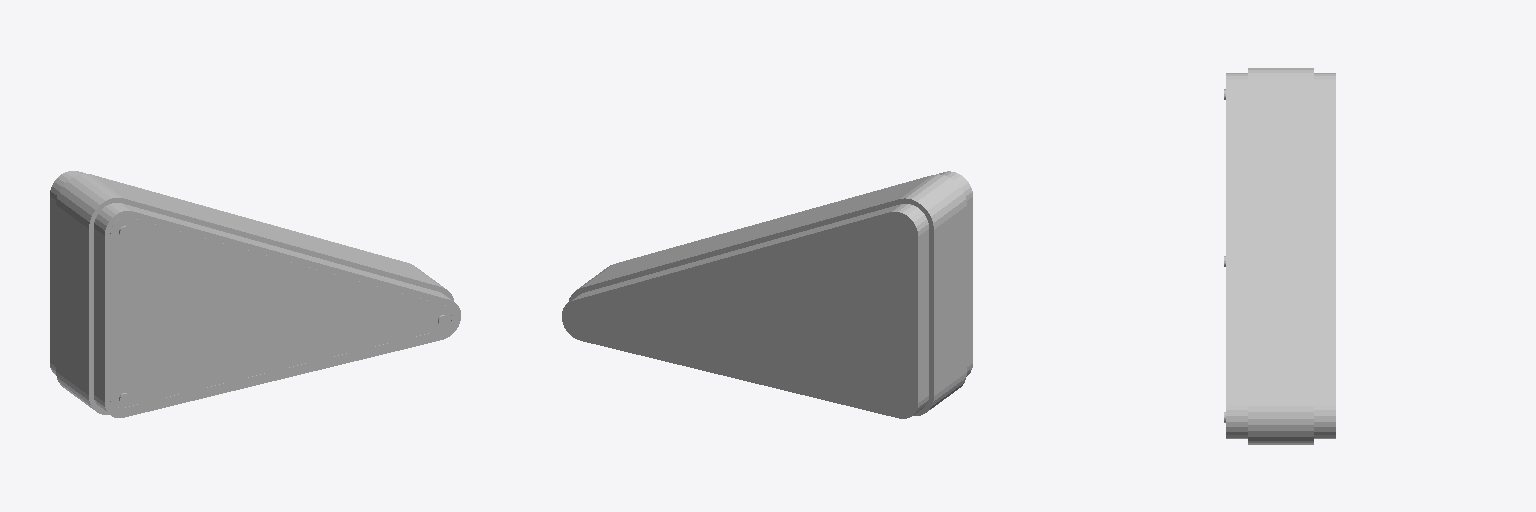
Rendered from triangularBumperLeft.obj.
3 views of the same model, side by side, from view 1: azimuth 30°, elevation 25°; view 2: azimuth 150°, elevation 25°; view 3: azimuth 270°, elevation 25° (orthographic).
Parts seen in each view (by area): view 1: Body1; view 2: Body1; view 3: Body1.
Part boxes in pixels (bbox=[...]): Body1: bbox=[50, 171, 460, 417]; Body1: bbox=[562, 171, 972, 418]; Body1: bbox=[1224, 68, 1335, 444].
Bounding box in the file's own units: 1.92 × 1.09 × 0.51.